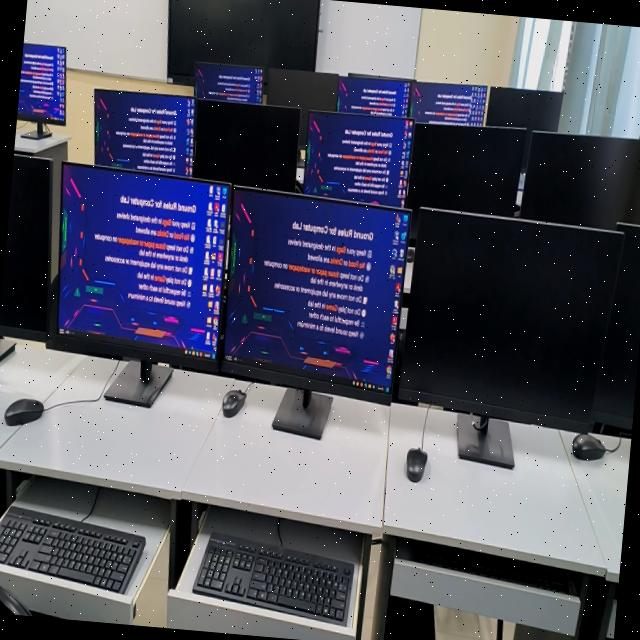Chair: (46, 271, 62, 349), (0, 586, 32, 616)
Cpu: (384, 596, 435, 640)
Keyboard: (193, 530, 353, 624), (0, 505, 145, 593), (414, 542, 570, 594)
Monitor: (395, 208, 623, 468), (221, 186, 409, 438), (57, 163, 231, 406), (405, 123, 527, 245), (520, 131, 640, 229), (0, 154, 52, 361), (304, 111, 414, 206), (591, 224, 640, 433), (193, 99, 300, 191), (94, 90, 195, 176), (486, 86, 562, 172), (265, 68, 338, 148), (16, 42, 66, 139), (336, 73, 411, 117), (411, 82, 487, 125), (194, 62, 263, 104)
Mouse: (4, 398, 44, 425), (572, 433, 607, 459), (406, 448, 427, 482), (222, 389, 246, 416), (407, 247, 414, 261)
